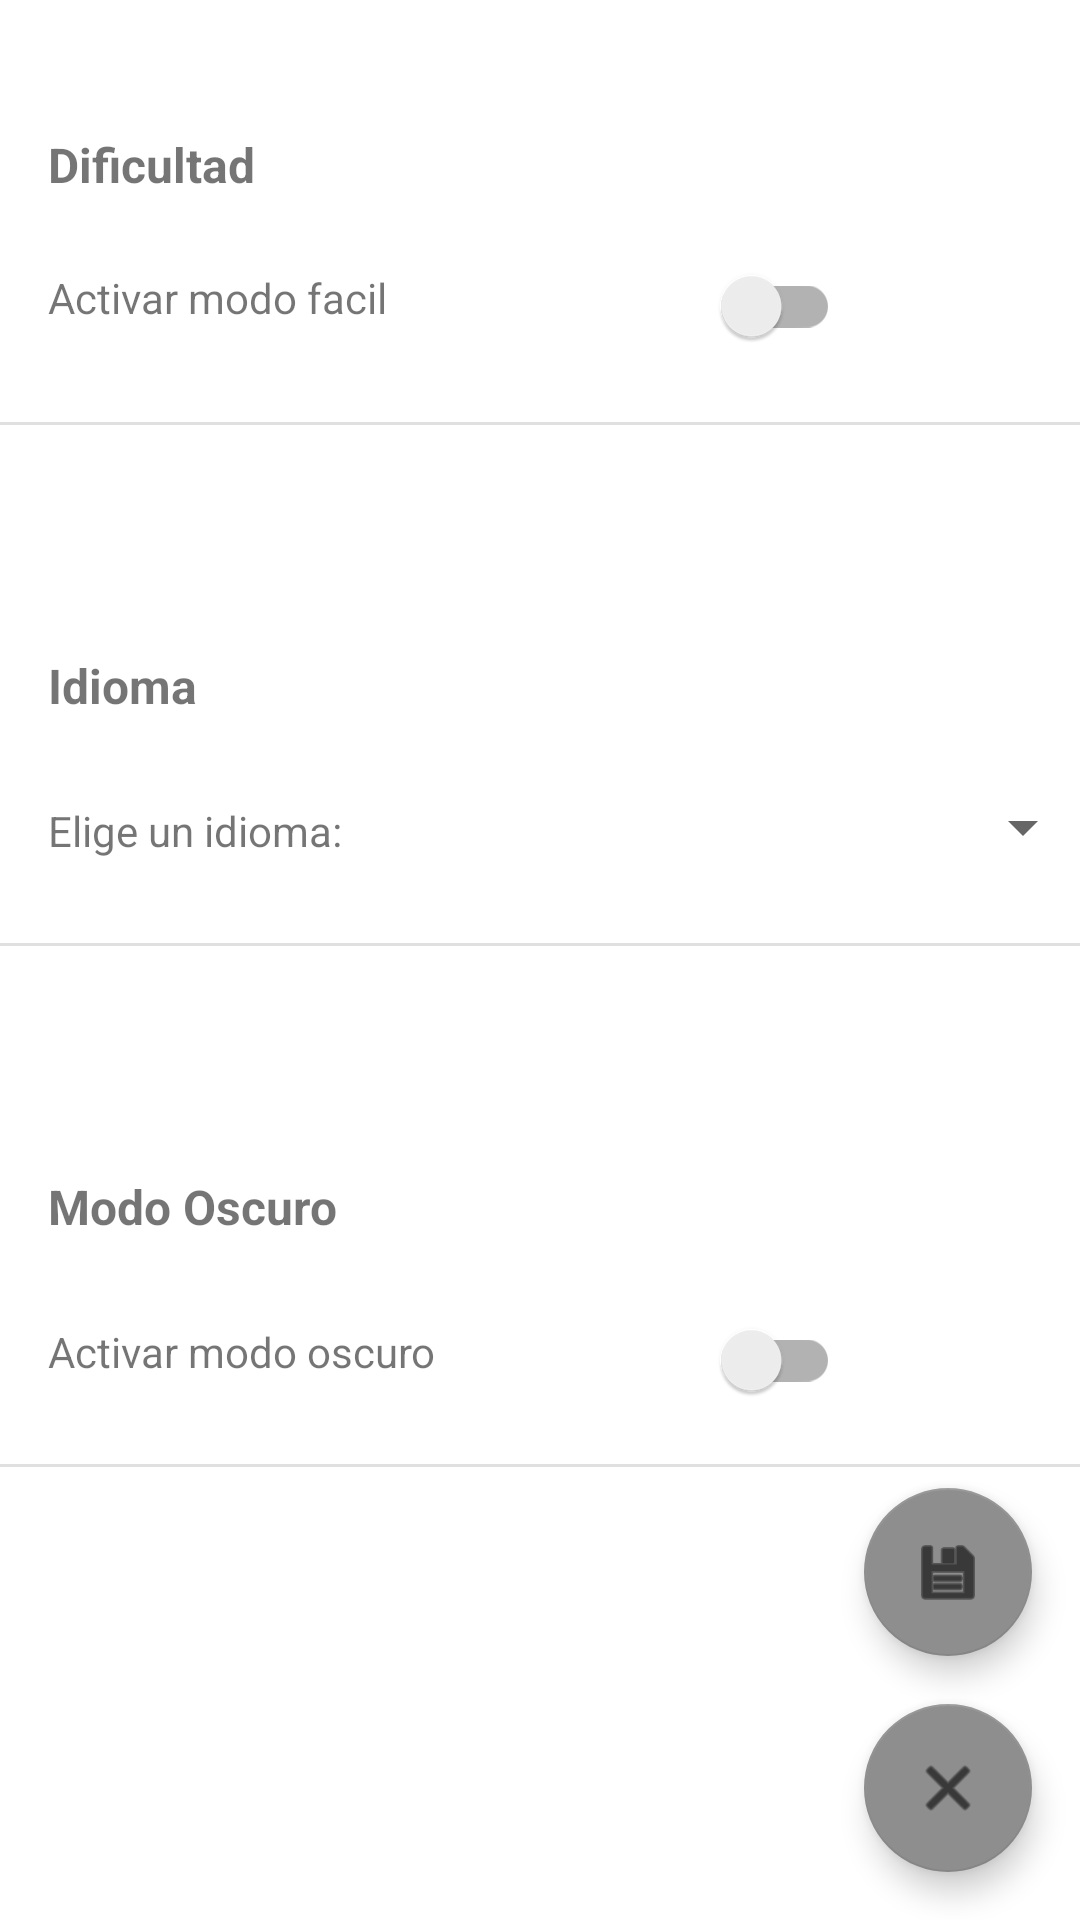

Icons on this 1080px x 1920px Android screen, each with the point to tap as [x,y]:
Guardar Ajustes: [948,1572]
Salir sin guardar: [948,1788]
